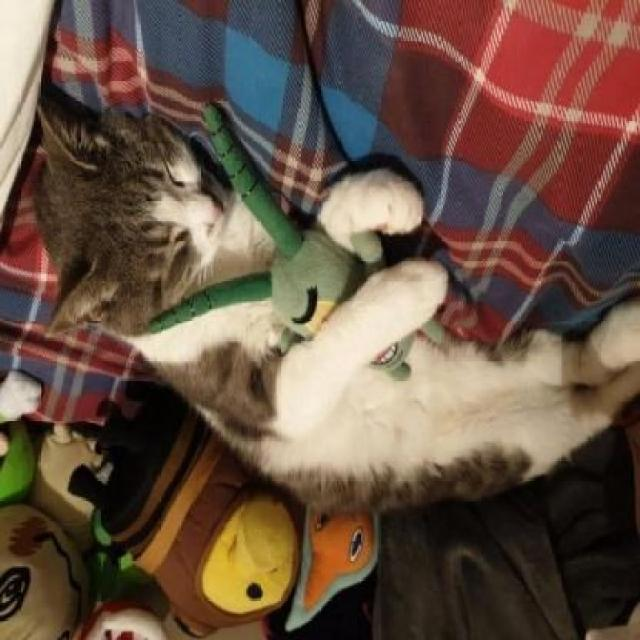cat: (23, 45, 640, 548)
